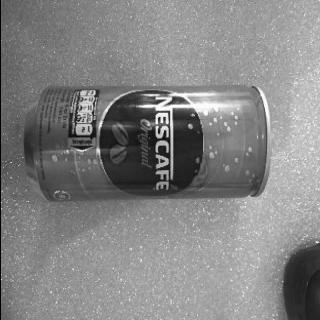alumunium_can: (21, 80, 274, 197)
